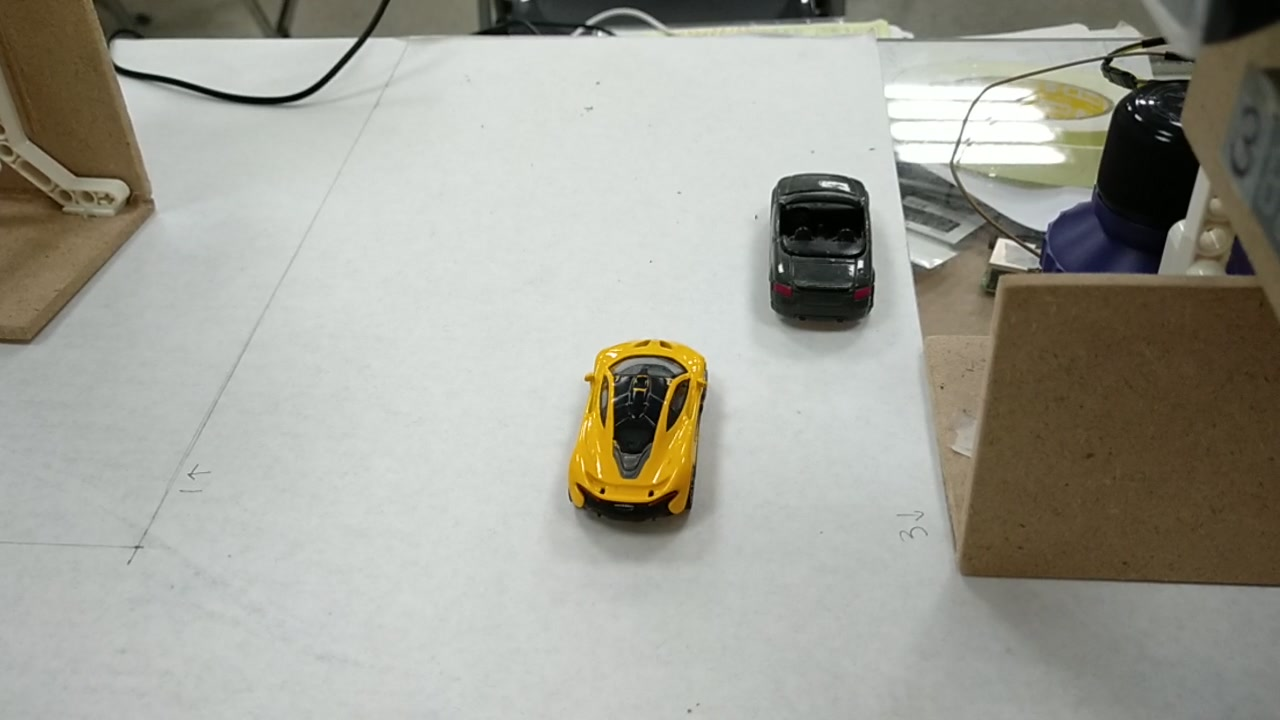car: (565, 341, 712, 507), (769, 178, 875, 311)
